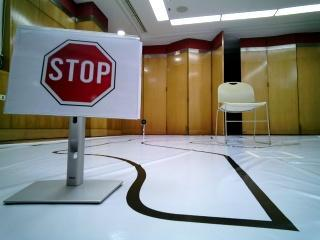stop: (20, 27, 137, 118)
